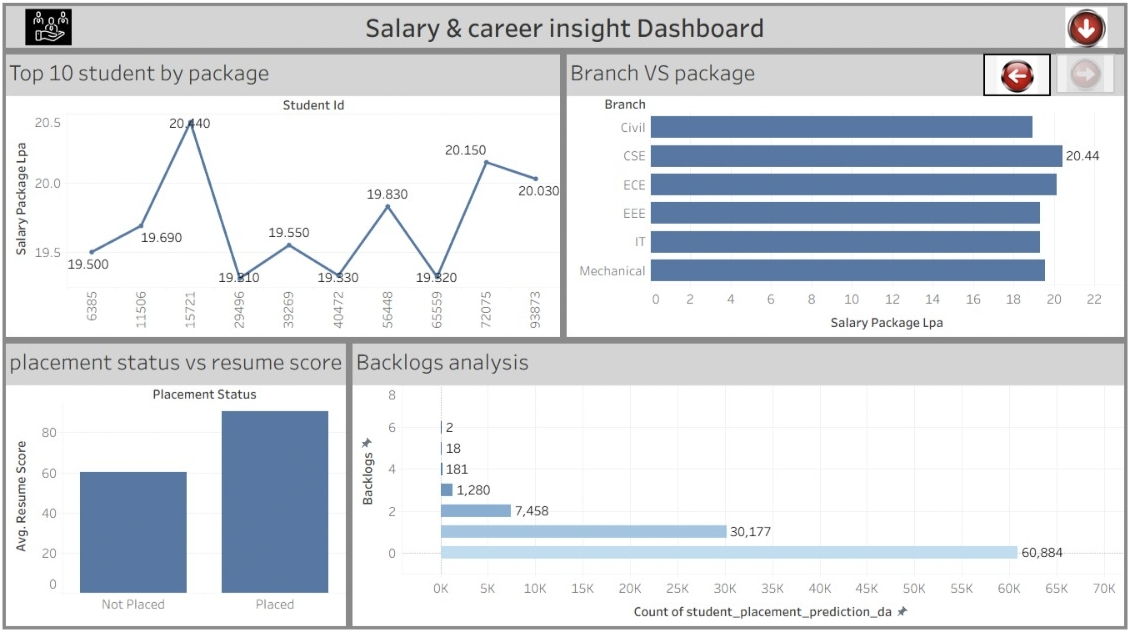

The page's visual inventory and layout, read from the dashboard file:
{"tool":"tableau","page":{"name":"Salary & career insight Dashboard","canvas":[1366,768],"ordinal":1},"visuals":[{"type":"title","box":[8,8,1350,58]},{"type":"dashboard-object","box":[1270,13,76,49]},{"type":"image","param":"C:/Users/lathi/Downloads/Logo-Placement.jpg","box":[35,15,65,44]},{"type":"worksheet","title":"Top 10 student by package ","mark":"Line","rows":["salary_package_lpa"],"cols":["student_id"],"box":[8,66,672.9,347]},{"type":"worksheet","title":"Branch VS package","mark":"Bar","rows":["branch"],"cols":["salary_package_lpa"],"box":[681,66,677,347]},{"type":"dashboard-object","box":[1185,69,81,51]},{"type":"dashboard-object","box":[1272,69,71,48]},{"type":"worksheet","title":"placement status vs resume score","mark":"Automatic","rows":["Resume_Score"],"cols":["placement_status"],"box":[8,413,416,347]},{"type":"worksheet","title":"Backlogs analysis","mark":"Bar","rows":["backlogs"],"cols":["student!placement!prediction!da_299001294B604F05B1F10018FFC4"],"box":[424,413,934,347]}]}

Visuals, with their boxes in screenshot pixels (x1, y1, x2, y2), scaled from the page's 1366x768 canvas onto the 1128x632 screenshot:
title: [7, 7, 1121, 54]
dashboard-object: [1049, 11, 1111, 51]
image: [29, 12, 83, 49]
"Top 10 student by package " worksheet (Line marks): [7, 54, 562, 340]
"Branch VS package" worksheet (Bar marks): [562, 54, 1121, 340]
dashboard-object: [979, 57, 1045, 99]
dashboard-object: [1050, 57, 1109, 96]
"placement status vs resume score" worksheet: [7, 340, 350, 625]
"Backlogs analysis" worksheet (Bar marks): [350, 340, 1121, 625]
